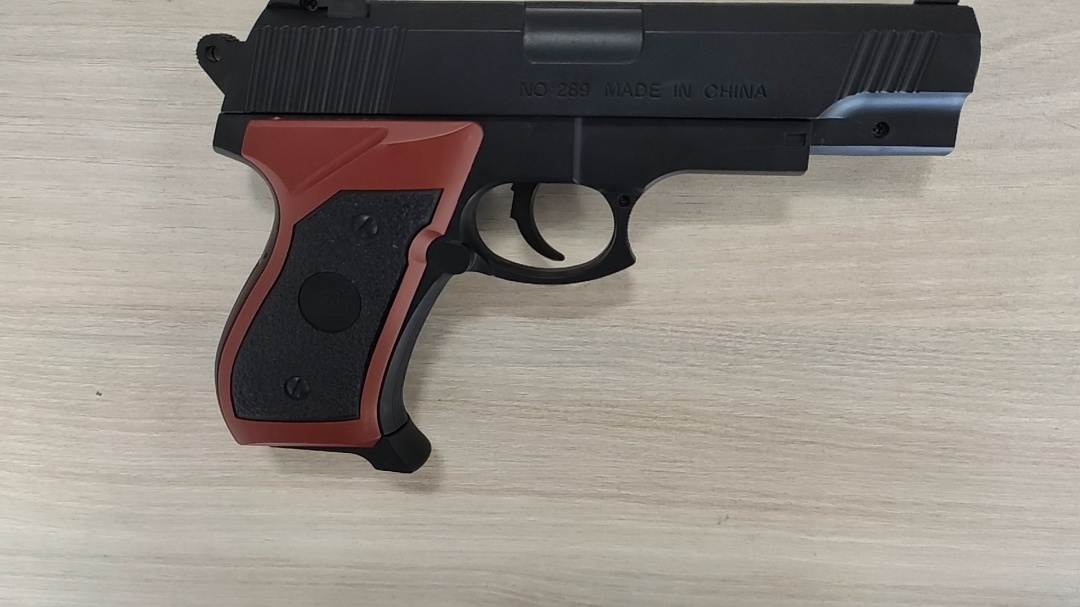gun: (184, 2, 983, 476)
